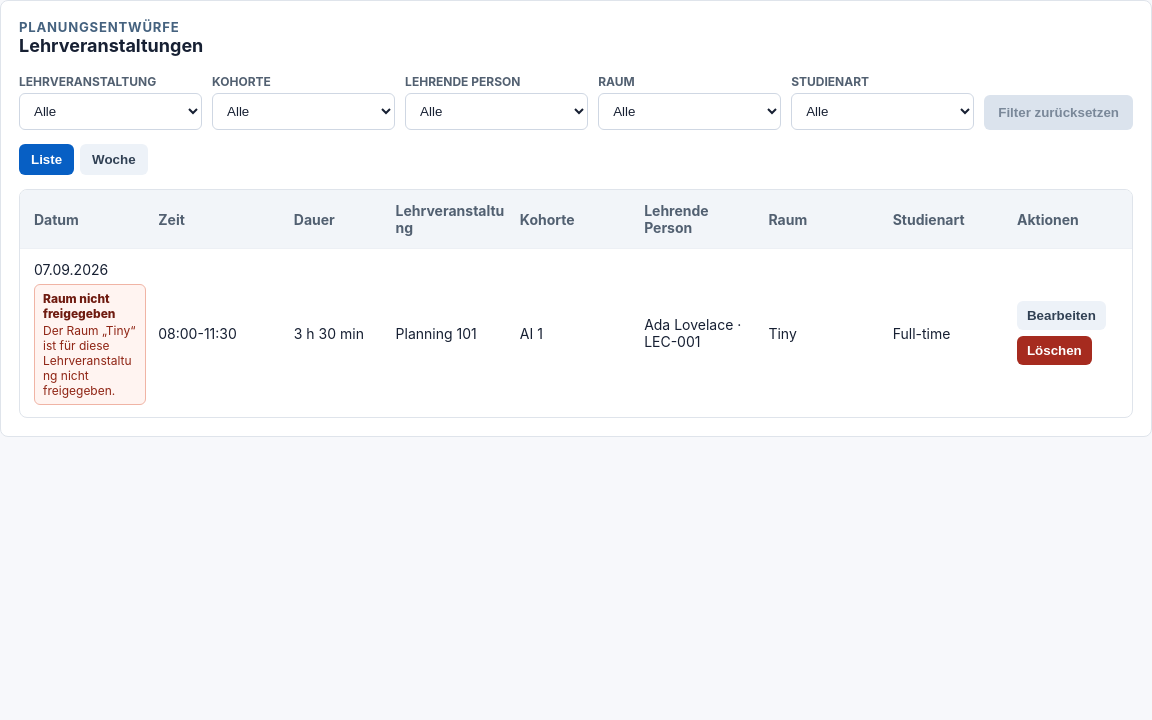
DraftSchedulePanel › keeps the current ineligible room selected while offering eligible alternatives
Click the button "Bearbeiten": (1061, 316) [1017,301,1106,330]
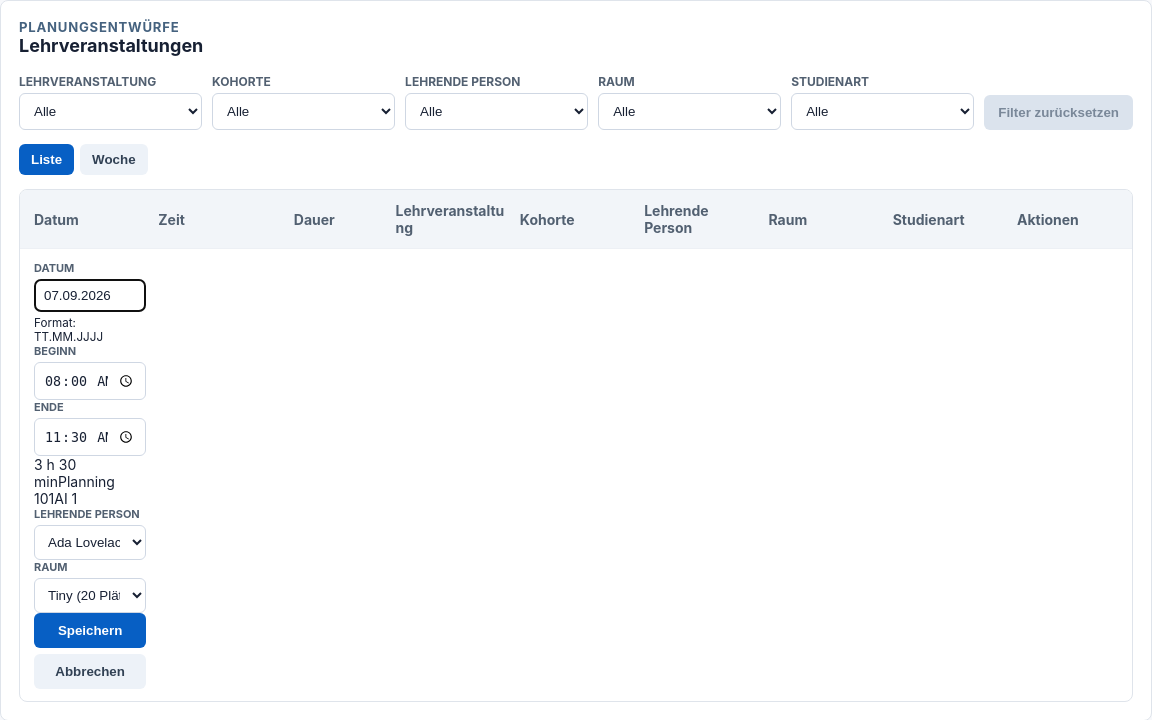
Expected: the dropdown labelled "Raum" below "AI 1" shows "Tiny (20 Plätze)", [34,578,146,613]
